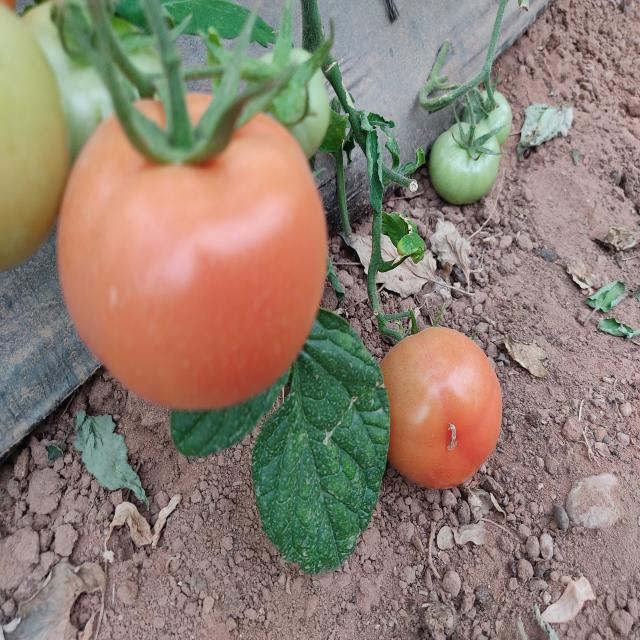Ripe Tomato: (68, 103, 330, 410), (370, 324, 508, 488)
Unripe Tomato: (240, 49, 329, 159), (432, 122, 501, 204), (459, 88, 512, 142)
